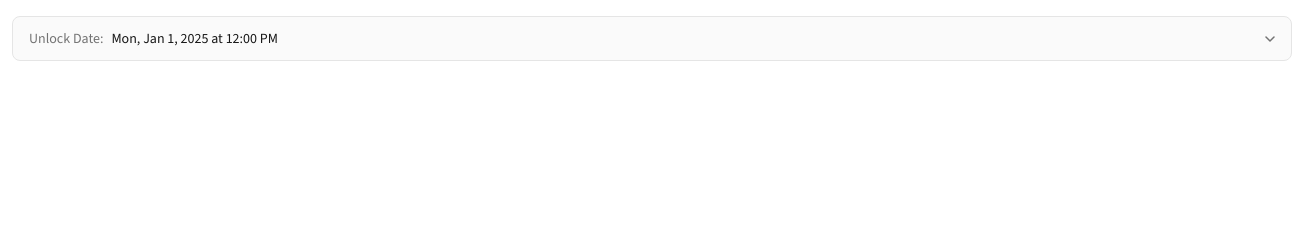
Test: CollapsibleDateControl › should show custom date inputs when custom preset is active
Click the button "Unlock Date: Mon, Jan 1, 2025 at 12:00 PM": (64, 38) [12,16,1292,61]
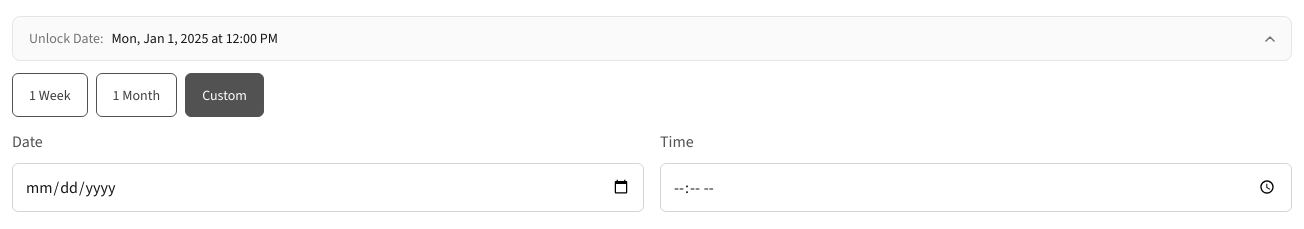
Now the date field labelled "Date" is shown, box [12,163,644,212]
Now the time field labelled "Time" is shown, box [660,163,1292,212]
